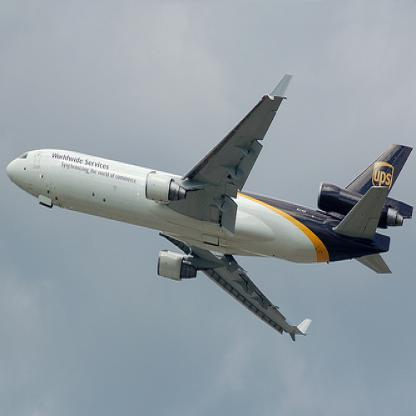aeroplane: (6, 73, 412, 341)
